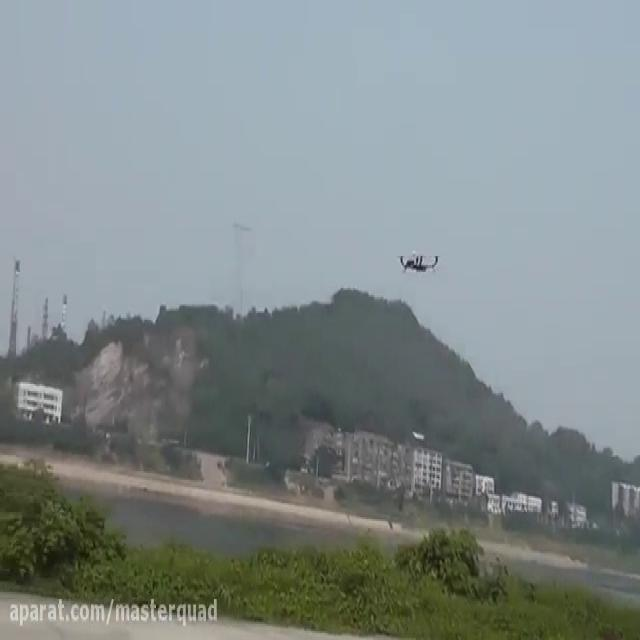drone: (395, 246, 441, 276)
